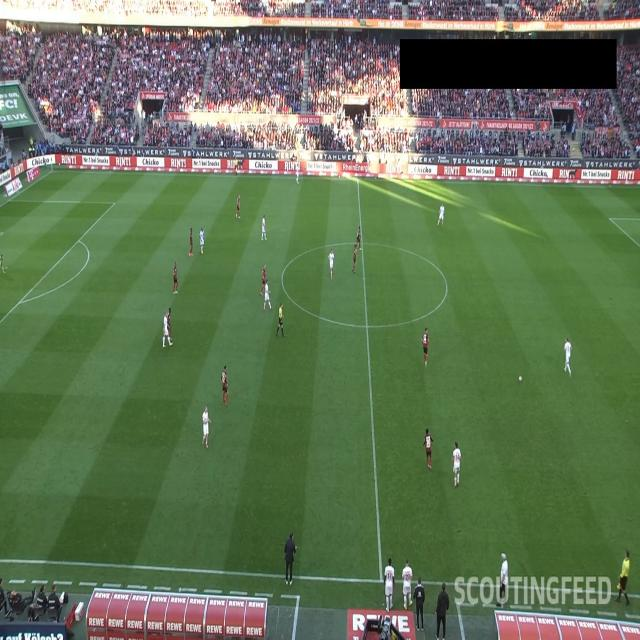ball: (518, 375, 522, 382)
